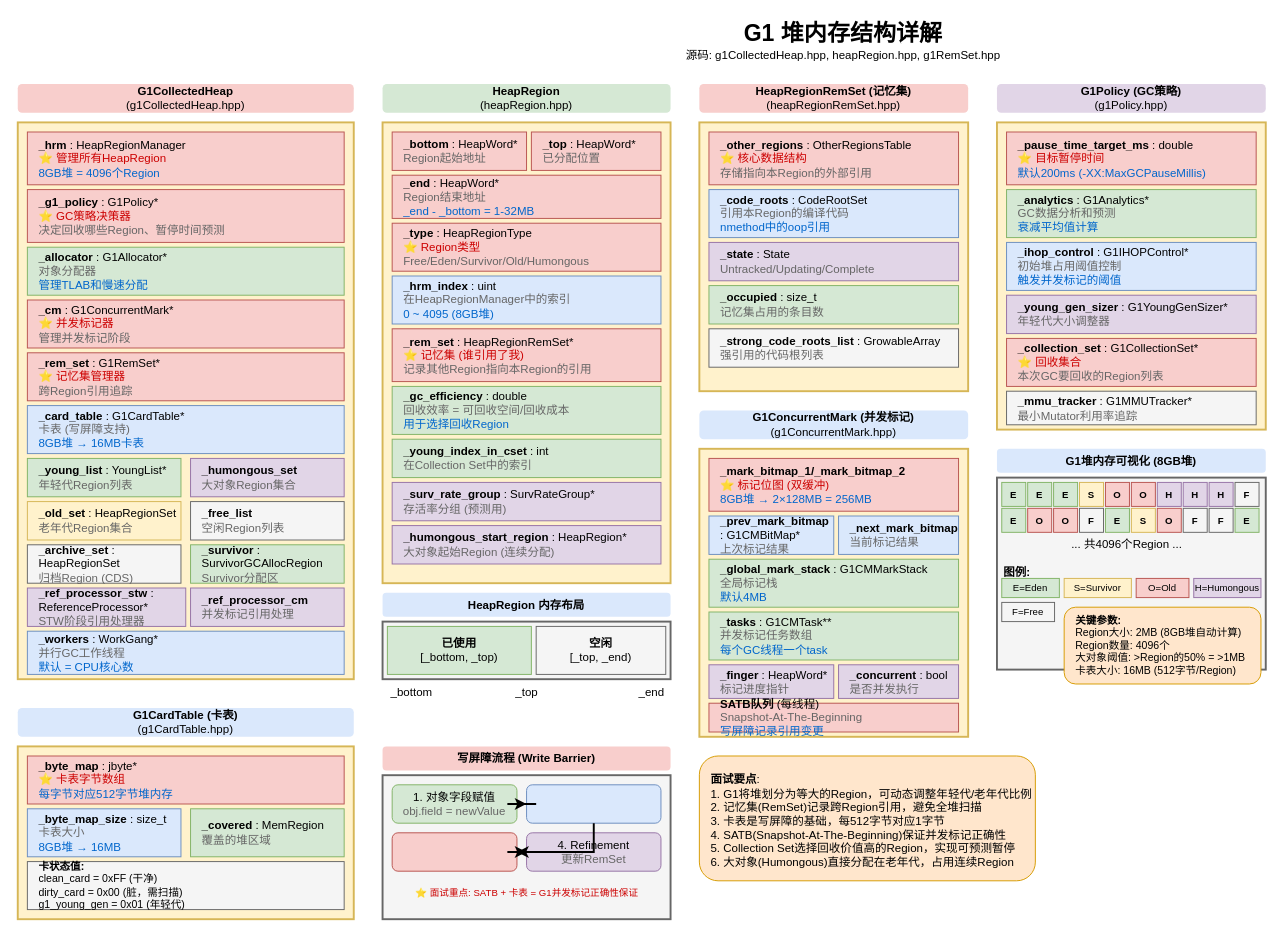
Image size: 1283x936. Some labels were removed from this diagram. The centre of each missing label's shape, as x and y in pixels:
2. Pre-Write Barrier SATB记录旧值: (x=593, y=803)
3. Post-Write Barrier 标记卡表为脏: (x=454, y=851)
